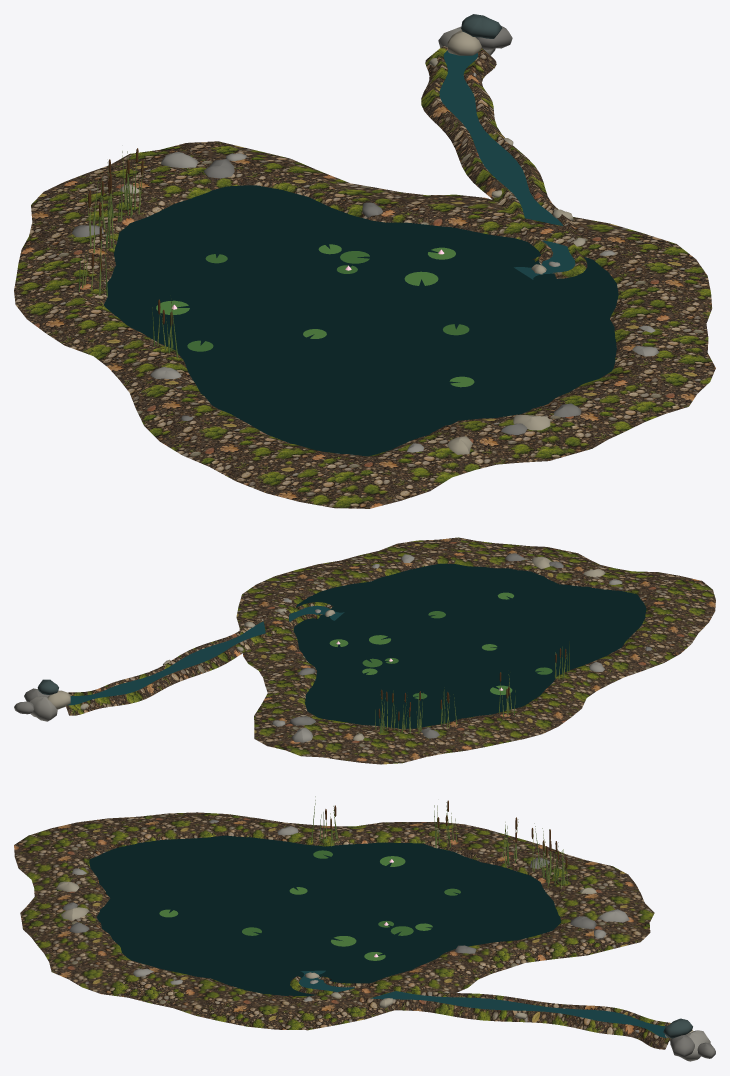
The model's file is user-model-x7gbj3.glb.
3 renders of one model, top to bottom at view 1: azimuth 30°, elevation 25°; view 2: azimuth 150°, elevation 25°; view 3: azimuth 270°, elevation 25°, orthographic. The views are drawn at different scales.
Visible parts, largest first — view 1: pond-water, pond-bank, stream-bank, stream-water; view 2: pond-water, pond-bank, stream-bank, stream-water, spring-rock-0; view 3: pond-water, pond-bank, stream-bank, stream-water, spring-rock-1.
Part boxes in pixels (x1,y1,x2,y2): pond-water: [104, 185, 618, 456]; pond-bank: [14, 141, 715, 508]; stream-bank: [421, 46, 587, 278]; stream-water: [439, 50, 575, 279]; pond-water: [293, 563, 646, 728]; pond-bank: [236, 537, 715, 764]; stream-bank: [65, 602, 333, 715]; stream-water: [65, 605, 344, 705]; spring-rock-0: [29, 696, 57, 721]; pond-water: [89, 835, 560, 996]; pond-bank: [14, 812, 654, 1030]; stream-bank: [290, 976, 670, 1049]; stream-water: [299, 970, 666, 1037]; spring-rock-1: [670, 1035, 694, 1057].
Size of what is drawn, in the model's own units: 14.83 by 1.74 by 17.75.
14 materials, 2 textured.
